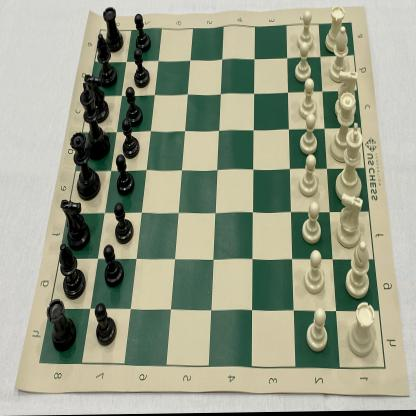black-bishop: (58, 243, 86, 299), (94, 32, 116, 88)
black-king: (78, 85, 110, 161)
black-knight: (59, 198, 91, 248), (82, 72, 110, 124)
black-pawn: (92, 302, 118, 349), (102, 243, 128, 290), (113, 201, 136, 245), (115, 154, 137, 197), (120, 119, 140, 161), (124, 86, 144, 128), (134, 12, 152, 54), (132, 49, 150, 89)
black-queen: (69, 129, 101, 202)
black-rook: (46, 299, 78, 353), (102, 3, 124, 55)
white-bishop: (344, 242, 372, 300), (328, 27, 352, 83)
white-king: (336, 122, 366, 204)
white-knight: (337, 193, 365, 250), (332, 70, 360, 119)
white-pawn: (304, 308, 332, 354), (304, 251, 327, 297), (298, 154, 320, 199), (301, 201, 323, 246), (294, 43, 314, 85), (298, 114, 318, 155), (297, 9, 316, 52), (300, 79, 319, 121)
white-queen: (330, 92, 358, 165)
white-rook: (348, 302, 378, 360), (325, 4, 347, 54)
